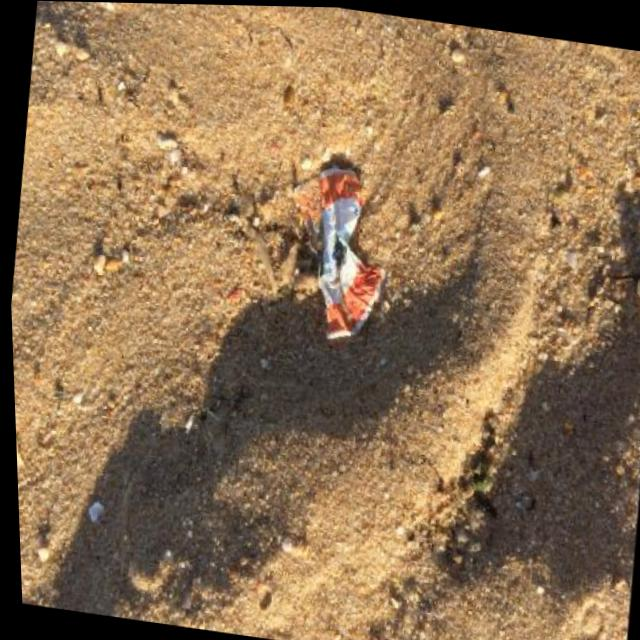plastic: (272, 158, 401, 349)
